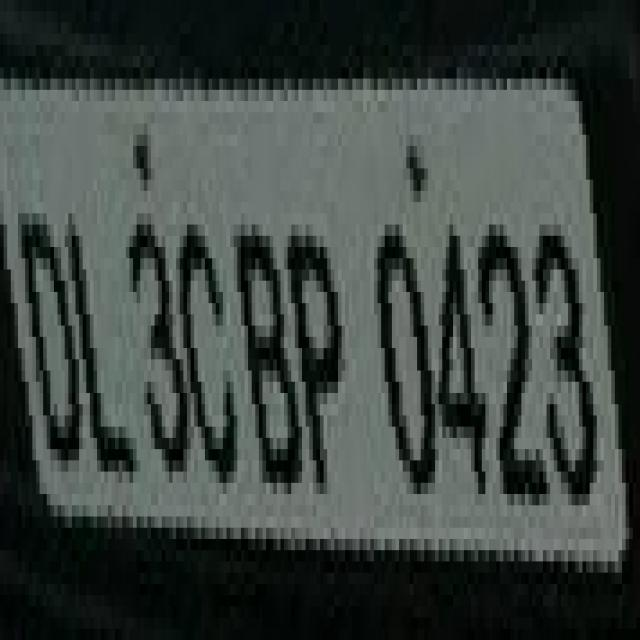plate: (11, 68, 640, 562)
